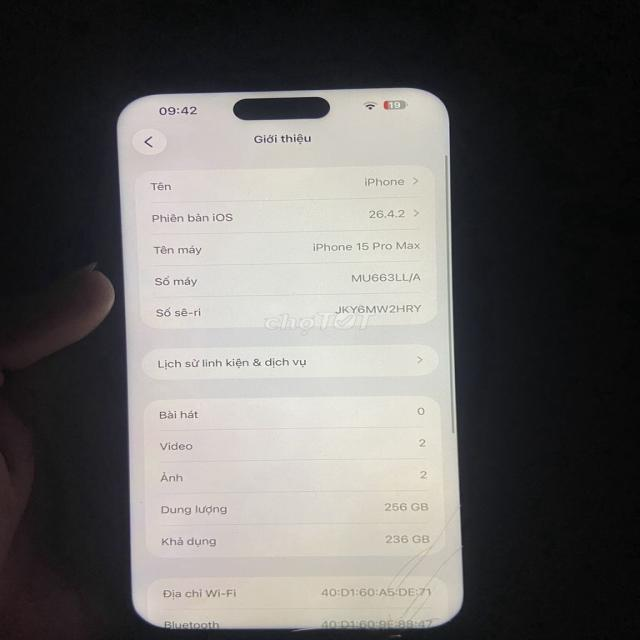gen_15: (87, 69, 480, 638)
